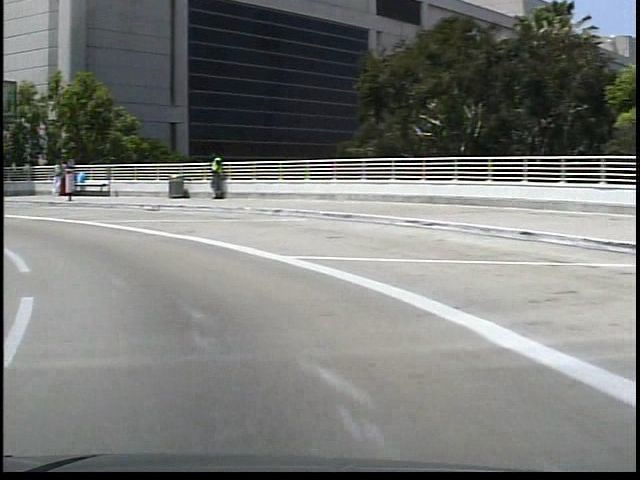person: (201, 149, 222, 203)
